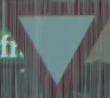Give way: (7, 4, 99, 87)
